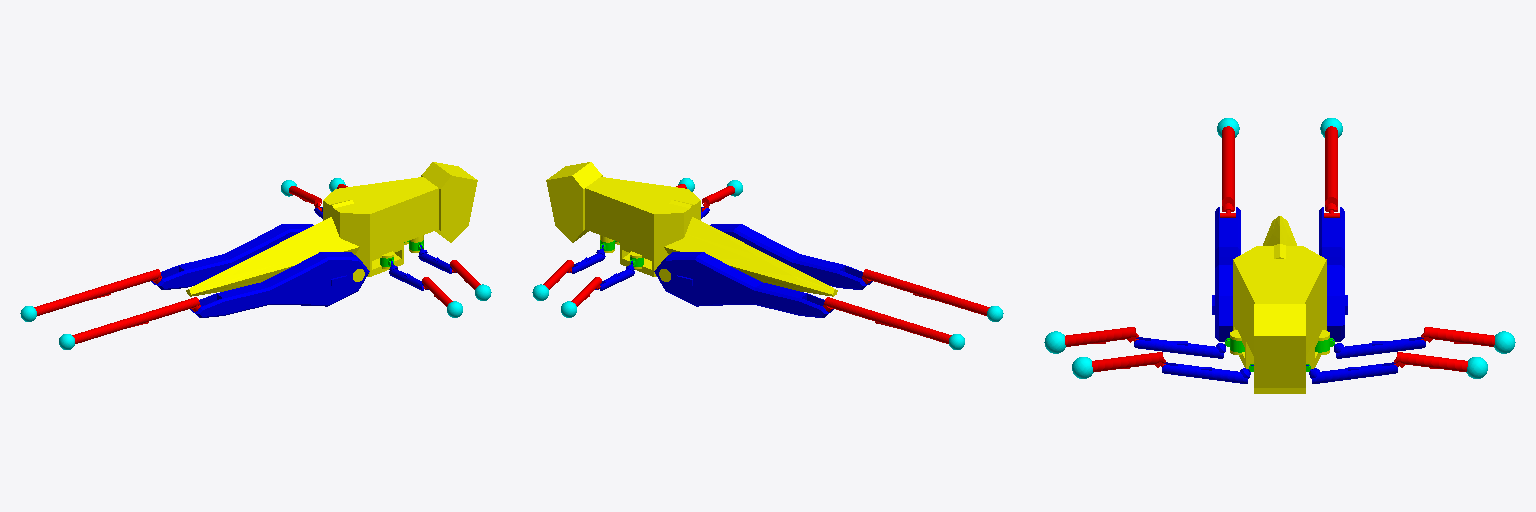
--- Render facts (derived) ---
Views: 3 orthographic renders of the robot side by side, from view 1: azimuth 30°, elevation 25°; view 2: azimuth 150°, elevation 25°; view 3: azimuth 270°, elevation 25°.
Robot: grasshopper_v16 — 23 links, 22 joints (16 revolute, 6 fixed); root link body; default pose: all joints at 0.
Visible links, largest first — view 1: body, rrt, lrt, rrc, lrc; view 2: body, lrt, rrt, lrc, rrc; view 3: body, lrt, rrt, lrc, rrc, lmt, rmt, lft, rft, lmc, rmc, lfc (+1 smaller).
Link boxes in pixels (bbox=[...]): body: bbox=[186, 162, 477, 296]; rrt: bbox=[190, 252, 369, 317]; lrt: bbox=[151, 224, 313, 289]; rrc: bbox=[72, 297, 200, 343]; lrc: bbox=[34, 269, 161, 315]; body: bbox=[546, 162, 837, 296]; lrt: bbox=[654, 252, 833, 317]; rrt: bbox=[710, 224, 872, 289]; lrc: bbox=[823, 297, 951, 343]; rrc: bbox=[862, 269, 989, 315]; body: bbox=[1230, 216, 1329, 393]; lrt: bbox=[1319, 207, 1347, 341]; rrt: bbox=[1212, 207, 1240, 341]; lrc: bbox=[1324, 126, 1339, 217]; rrc: bbox=[1220, 126, 1235, 217]; lmt: bbox=[1333, 337, 1425, 358]; rmt: bbox=[1134, 337, 1226, 358]; lft: bbox=[1306, 362, 1397, 383]; rft: bbox=[1162, 362, 1253, 383]; lmc: bbox=[1421, 327, 1494, 346]; rmc: bbox=[1065, 327, 1138, 346]; lfc: bbox=[1394, 352, 1467, 371].
Bounding box of the posed robot: 0.2065 × 0.1458 × 0.0405 m (x, y, z).
23 mesh visuals loaded from 23 distinct referenced files (23 binary STL).

robot.urdf — grasshopper_v16:
<?xml version="1.0" encoding="utf-8"?>
<!-- This URDF was automatically created by SolidWorks to URDF Exporter! Originally created by Stephen Brawner ([email redacted]) 
     Commit Version: 1.5.1-0-g916b5db  Build Version: 1.5.7152.31018
     For more information, please see http://wiki.ros.org/sw_urdf_exporter -->
<robot
  name="grasshopper_v16">

  <link
    name="body">
    <inertial>
      <origin
        xyz="0.01628 3.7835E-10 0.01505"
        rpy="0 0 0" />
      <mass
        value="0.00568" />
      <inertia
        ixx="5.6329E-07"
        ixy="-7.7524E-14"
        ixz="-5.4963E-07"
        iyy="4.4141E-06"
        iyz="-1.066E-13"
        izz="4.2627E-06" />
    </inertial>
    <visual>
      <origin
        xyz="0 0 0"
        rpy="0 0 0" />
      <geometry>
        <mesh
          filename="package://grasshopper_v16/meshes/body.STL" />
      </geometry>
      <material
        name="yellow">
        <color
          rgba="1 1 0 1" />
      </material>
    </visual>
    <collision>
      <origin
        xyz="0 0 0"
        rpy="0 0 0" />
      <geometry>
        <mesh
          filename="package://grasshopper_v16/meshes/body.STL" />
      </geometry>
    </collision>
  </link>

  <link
    name="lrt">
    <inertial>
      <origin
        xyz="0.026129 8.6736E-18 0.0040288"
        rpy="0 0 0" />
      <mass
        value="0.0010251" />
      <inertia
        ixx="2.7587E-08"
        ixy="-1.0024E-22"
        ixz="6.3727E-10"
        iyy="3.7993E-07"
        iyz="1.8212E-24"
        izz="3.966E-07" />
    </inertial>
    <visual>
      <origin
        xyz="0 0 0"
        rpy="0 0 0" />
      <geometry>
        <mesh
          filename="package://grasshopper_v16/meshes/lrt.STL" />
      </geometry>
      <material
        name="blue">
        <color
          rgba="0 0 1 1" />
      </material>
    </visual>
    <collision>
      <origin
        xyz="0 0 0"
        rpy="0 0 0" />
      <geometry>
        <mesh
          filename="package://grasshopper_v16/meshes/lrt.STL" />
      </geometry>
    </collision>
  </link>

  <joint
    name="lrt"
    type="revolute">
    <origin
      xyz="0.0015 0.012 0.005"
      rpy="1.5708 0 3.1416" />
    <parent
      link="body" />
    <child
      link="lrt" />
    <axis
      xyz="0 0 1" />
    <limit
      lower="0"
      upper="1.5708"
      effort="100000000"
      velocity="100000000" />
    <dynamics
      damping="0.00001" />
  </joint>

  <link
    name="lrc">
    <inertial>
      <origin
        xyz="0.030924 0.0039218 0.0025"
        rpy="0 0 0" />
      <mass
        value="0.00011285" />
      <inertia
        ixx="2.5092E-10"
        ixy="-2.7294E-10"
        ixz="1.736E-14"
        iyy="3.9191E-08"
        iyz="2.1879E-15"
        izz="3.9215E-08" />
    </inertial>
    <visual>
      <origin
        xyz="0 0 0"
        rpy="0 0 0" />
      <geometry>
        <mesh
          filename="package://grasshopper_v16/meshes/lrc.STL" />
      </geometry>
      <material
        name="red">
        <color
          rgba="1 0 0 1" />
      </material>
    </visual>
    <collision>
      <origin
        xyz="0 0 0"
        rpy="0 0 0" />
      <geometry>
        <mesh
          filename="package://grasshopper_v16/meshes/lrc.STL" />
      </geometry>
    </collision>
  </link>

  <joint
    name="lrc"
    type="revolute">
    <origin
      xyz="0.075 0 0.0015"
      rpy="0 0 -0.063261" />
    <parent
      link="lrt" />
    <child
      link="lrc" />
    <axis
      xyz="0 0 1" />
    <limit
      lower="-2.906"
      upper="0"
      effort="100000000"
      velocity="100000000" />
    <dynamics
      damping="0.00001" />
  </joint>

  <link
    name="lrf">
    <inertial>
      <origin
        xyz="-1.7347E-18 -3.4694E-18 -0.00046191"
        rpy="0 0 0" />
      <mass
        value="0.00013943" />
      <inertia
        ixx="6.7329E-10"
        ixy="1.6009E-26"
        ixz="2.0356E-25"
        iyy="6.7329E-10"
        iyz="6.0666E-28"
        izz="8.023E-10" />
    </inertial>
    <visual>
      <origin
        xyz="0 0 0"
        rpy="0 0 0" />
      <geometry>
        <mesh
          filename="package://grasshopper_v16/meshes/lrf.STL" />
      </geometry>
      <material
        name="cyan">
        <color
          rgba="0 1 1 1" />
      </material>
    </visual>
    <collision>
      <origin
        xyz="0 0 0"
        rpy="0 0 0" />
      <geometry>
        <mesh
          filename="package://grasshopper_v16/meshes/lrf.STL" />
      </geometry>
    </collision>
  </link>

  <joint
    name="lrf"
    type="fixed">
    <origin
      xyz="0.063369 0.0040142 0.0025"
      rpy="1.5708 0 -1.5708" />
    <parent
      link="lrc" />
    <child
      link="lrf" />
    <axis
      xyz="0 0 0" />
  </joint>

  <link
    name="lmj">
    <inertial>
      <origin
        xyz="7.7471E-06 3.4694E-18 0.0020001"
        rpy="0 0 0" />
      <mass
        value="1.3465E-05" />
      <inertia
        ixx="5.2603E-11"
        ixy="5.6071E-27"
        ixz="-3.2237E-15"
        iyy="5.5264E-11"
        iyz="1.3527E-28"
        izz="7.2052E-11" />
    </inertial>
    <visual>
      <origin
        xyz="0 0 0"
        rpy="0 0 0" />
      <geometry>
        <mesh
          filename="package://grasshopper_v16/meshes/lmj.STL" />
      </geometry>
      <material
        name="green">
        <color
          rgba="0 1 0 1" />
      </material>
    </visual>
    <collision>
      <origin
        xyz="0 0 0"
        rpy="0 0 0" />
      <geometry>
        <mesh
          filename="package://grasshopper_v16/meshes/lmj.STL" />
      </geometry>
    </collision>
  </link>

  <joint
    name="lmj"
    type="revolute">
    <origin
      xyz="0.0195 0.0125 0.003"
      rpy="0 0 1.5708" />
    <parent
      link="body" />
    <child
      link="lmj" />
    <axis
      xyz="0 0 1" />
    <limit
      lower="-1.3963"
      upper="0.95993"
      effort="10000"
      velocity="10000" />
  </joint>

  <link
    name="lmt">
    <inertial>
      <origin
        xyz="0.012787 -0.0037196 -1.1737E-08"
        rpy="0 0 0" />
      <mass
        value="3.6611E-05" />
      <inertia
        ixx="6.8527E-11"
        ixy="4.4234E-11"
        ixz="-1.9814E-15"
        iyy="2.1403E-09"
        iyz="5.0977E-16"
        izz="2.1458E-09" />
    </inertial>
    <visual>
      <origin
        xyz="0 0 0"
        rpy="0 0 0" />
      <geometry>
        <mesh
          filename="package://grasshopper_v16/meshes/lmt.STL" />
      </geometry>
      <material
        name="blue">
        <color
          rgba="0 0 1 1" />
      </material>
    </visual>
    <collision>
      <origin
        xyz="0 0 0"
        rpy="0 0 0" />
      <geometry>
        <mesh
          filename="package://grasshopper_v16/meshes/lmt.STL" />
      </geometry>
    </collision>
  </link>

  <joint
    name="lmt"
    type="revolute">
    <origin
      xyz="0.0035 0 0.002"
      rpy="1.5708 -0.13685 0" />
    <parent
      link="lmj" />
    <child
      link="lmt" />
    <axis
      xyz="0 0 1" />
    <limit
      lower="0"
      upper="1.5708"
      effort="10000"
      velocity="10000" />
  </joint>

  <link
    name="lmc">
    <inertial>
      <origin
        xyz="0.012337 0.0035222 2.1681E-10"
        rpy="0 0 0" />
      <mass
        value="3.5662E-05" />
      <inertia
        ixx="6.2989E-11"
        ixy="-2.0946E-11"
        ixz="8.088E-17"
        iyy="1.9097E-09"
        iyz="6.3655E-17"
        izz="1.9164E-09" />
    </inertial>
    <visual>
      <origin
        xyz="0 0 0"
        rpy="0 0 0" />
      <geometry>
        <mesh
          filename="package://grasshopper_v16/meshes/lmc.STL" />
      </geometry>
      <material
        name="red">
        <color
          rgba="1 0 0 1" />
      </material>
    </visual>
    <collision>
      <origin
        xyz="0 0 0"
        rpy="0 0 0" />
      <geometry>
        <mesh
          filename="package://grasshopper_v16/meshes/lmc.STL" />
      </geometry>
    </collision>
  </link>

  <joint
    name="lmc"
    type="revolute">
    <origin
      xyz="0.027871 -0.0038382 0"
      rpy="0 0 -0.27932" />
    <parent
      link="lmt" />
    <child
      link="lmc" />
    <axis
      xyz="0 0 1" />
    <limit
      lower="-2.7838"
      upper="0"
      effort="10000"
      velocity="10000" />
  </joint>

  <link
    name="lmf">
    <inertial>
      <origin
        xyz="-3.4694E-18 -1.7347E-18 -0.00036944"
        rpy="0 0 0" />
      <mass
        value="0.00014644" />
      <inertia
        ixx="7.1592E-10"
        ixy="2.5849E-26"
        ixz="9.0473E-26"
        iyy="7.1592E-10"
        iyz="3.8774E-26"
        izz="8.2767E-10" />
    </inertial>
    <visual>
      <origin
        xyz="0 0 0"
        rpy="0 0 0" />
      <geometry>
        <mesh
          filename="package://grasshopper_v16/meshes/lmf.STL" />
      </geometry>
      <material
        name="cyan">
        <color
          rgba="0 1 1 1" />
      </material>
    </visual>
    <collision>
      <origin
        xyz="0 0 0"
        rpy="0 0 0" />
      <geometry>
        <mesh
          filename="package://grasshopper_v16/meshes/lmf.STL" />
      </geometry>
    </collision>
  </link>

  <joint
    name="lmf"
    type="fixed">
    <origin
      xyz="0.024991154273188 0.00358467875173177 0"
      rpy="-1.5707963267949 -0.489454769549356 1.5707963267949" />
    <parent
      link="lmc" />
    <child
      link="lmf" />
    <axis
      xyz="0 0 0" />
  </joint>

  <link
    name="lfj">
    <inertial>
      <origin
        xyz="7.7471E-06 -1.3878E-17 0.0020001"
        rpy="0 0 0" />
      <mass
        value="1.3465E-05" />
      <inertia
        ixx="5.2603E-11"
        ixy="3.9623E-27"
        ixz="-3.2237E-15"
        iyy="5.5264E-11"
        iyz="-7.2343E-27"
        izz="7.2052E-11" />
    </inertial>
    <visual>
      <origin
        xyz="0 0 0"
        rpy="0 0 0" />
      <geometry>
        <mesh
          filename="package://grasshopper_v16/meshes/lfj.STL" />
      </geometry>
      <material
        name="green">
        <color
          rgba="0 1 0 1" />
      </material>
    </visual>
    <collision>
      <origin
        xyz="0 0 0"
        rpy="0 0 0" />
      <geometry>
        <mesh
          filename="package://grasshopper_v16/meshes/lfj.STL" />
      </geometry>
    </collision>
  </link>

  <joint
    name="lfj"
    type="revolute">
    <origin
      xyz="0.038 0.005 0.003"
      rpy="0 0 1.5708" />
    <parent
      link="body" />
    <child
      link="lfj" />
    <axis
      xyz="0 0 1" />
    <limit
      lower="-1.2217"
      upper="0.7854"
      effort="10000"
      velocity="10000" />
  </joint>
  <link
    name="lft">
    <inertial>
      <origin
        xyz="0.012295 -0.0037175 -1.1505E-08"
        rpy="0 0 0" />
      <mass
        value="3.516E-05" />
      <inertia
        ixx="6.6056E-11"
        ixy="4.2264E-11"
        ixz="-1.8246E-15"
        iyy="1.9095E-09"
        iyz="4.7256E-16"
        izz="1.9149E-09" />
    </inertial>
    <visual>
      <origin
        xyz="0 0 0"
        rpy="0 0 0" />
      <geometry>
        <mesh
          filename="package://grasshopper_v16/meshes/lft.STL" />
      </geometry>
      <material
        name="blue">
        <color
          rgba="0 0 1 1" />
      </material>
    </visual>
    <collision>
      <origin
        xyz="0 0 0"
        rpy="0 0 0" />
      <geometry>
        <mesh
          filename="package://grasshopper_v16/meshes/lft.STL" />
      </geometry>
    </collision>
  </link>

  <joint
    name="lft"
    type="revolute">
    <origin
      xyz="0.0035 0 0.002"
      rpy="1.5708 -0.14188 0" />
    <parent
      link="lfj" />
    <child
      link="lft" />
    <axis
      xyz="0 0 1" />
    <limit
      lower="0"
      upper="1.5708"
      effort="10000"
      velocity="10000" />
  </joint>

  <link
    name="lfc">
    <inertial>
      <origin
        xyz="0.012346 0.0035298 9.2442E-11"
        rpy="0 0 0" />
      <mass
        value="3.5516E-05" />
      <inertia
        ixx="6.2427E-11"
        ixy="-2.0323E-11"
        ixz="5.592E-17"
        iyy="1.9089E-09"
        iyz="5.073E-17"
        izz="1.9151E-09" />
    </inertial>
    <visual>
      <origin
        xyz="0 0 0"
        rpy="0 0 0" />
      <geometry>
        <mesh
          filename="package://grasshopper_v16/meshes/lfc.STL" />
      </geometry>
      <material
        name="red">
        <color
          rgba="1 0 0 1" />
      </material>
    </visual>
    <collision>
      <origin
        xyz="0 0 0"
        rpy="0 0 0" />
      <geometry>
        <mesh
          filename="package://grasshopper_v16/meshes/lfc.STL" />
      </geometry>
    </collision>
  </link>

  <joint
    name="lfc"
    type="revolute">
    <origin
      xyz="0.026871 -0.0038382 0"
      rpy="0 0 -0.28434" />
    <parent
      link="lft" />
    <child
      link="lfc" />
    <axis
      xyz="0 0 1" />
    <limit
      lower="-2.7838"
      upper="0"
      effort="10000"
      velocity="10000" />
  </joint>

  <link
    name="lff">
    <inertial>
      <origin
        xyz="6.9389E-18 1.7347E-18 -0.00036944"
        rpy="0 0 0" />
      <mass
        value="0.00014644" />
      <inertia
        ixx="7.1592E-10"
        ixy="0"
        ixz="7.2701E-26"
        iyy="7.1592E-10"
        iyz="6.4623E-27"
        izz="8.2767E-10" />
    </inertial>
    <visual>
      <origin
        xyz="0 0 0"
        rpy="0 0 0" />
      <geometry>
        <mesh
          filename="package://grasshopper_v16/meshes/lff.STL" />
      </geometry>
      <material
        name="cyan">
        <color
          rgba="0 1 1 1" />
      </material>
    </visual>
    <collision>
      <origin
        xyz="0 0 0"
        rpy="0 0 0" />
      <geometry>
        <mesh
          filename="package://grasshopper_v16/meshes/lff.STL" />
      </geometry>
    </collision>
  </link>

  <joint
    name="lff"
    type="fixed">
    <origin
      xyz="0.024991154273188 0.00358467875173176 0"
      rpy="-1.5707963267949 -1.31216908789752 1.5707963267949" />
    <parent
      link="lfc" />
    <child
      link="lff" />
    <axis
      xyz="0.336925099006697 0.628632687727636 -0.700929683762682" />
  </joint>

  <link
    name="rrt">
    <inertial>
      <origin
        xyz="0.026129 2.6021E-18 -0.0040288"
        rpy="0 0 0" />
      <mass
        value="0.0010251" />
      <inertia
        ixx="2.7587E-08"
        ixy="-5.2128E-23"
        ixz="-6.3727E-10"
        iyy="3.7993E-07"
        iyz="2.7401E-25"
        izz="3.966E-07" />
    </inertial>
    <visual>
      <origin
        xyz="0 0 0"
        rpy="0 0 0" />
      <geometry>
        <mesh
          filename="package://grasshopper_v16/meshes/rrt.STL" />
      </geometry>
      <material
        name="blue">
        <color
          rgba="0 0 1 1" />
      </material>
    </visual>
    <collision>
      <origin
        xyz="0 0 0"
        rpy="0 0 0" />
      <geometry>
        <mesh
          filename="package://grasshopper_v16/meshes/rrt.STL" />
      </geometry>
    </collision>
  </link>

  <joint
    name="rrt"
    type="revolute">
    <origin
      xyz="0.0015 -0.012 0.005"
      rpy="1.5708 0 3.1416" />
    <parent
      link="body" />
    <child
      link="rrt" />
    <axis
      xyz="0 0 1" />
    <limit
      lower="0"
      upper="1.5708"
      effort="100000000"
      velocity="100000000" />
    <dynamics
      damping="0.00001" />
  </joint>

  <link
    name="rrc">
    <inertial>
      <origin
        xyz="0.030924 0.0039218 -0.0025"
        rpy="0 0 0" />
      <mass
        value="0.00011285" />
      <inertia
        ixx="2.5092E-10"
        ixy="-2.7294E-10"
        ixz="1.736E-14"
        iyy="3.9191E-08"
        iyz="2.1879E-15"
        izz="3.9215E-08" />
    </inertial>
    <visual>
      <origin
        xyz="0 0 0"
        rpy="0 0 0" />
      <geometry>
        <mesh
          filename="package://grasshopper_v16/meshes/rrc.STL" />
      </geometry>
      <material
        name="red">
        <color
          rgba="1 0 0 1" />
      </material>
    </visual>
    <collision>
      <origin
        xyz="0 0 0"
        rpy="0 0 0" />
      <geometry>
        <mesh
          filename="package://grasshopper_v16/meshes/rrc.STL" />
      </geometry>
    </collision>
  </link>

  <joint
    name="rrc"
    type="revolute">
    <origin
      xyz="0.075 0 -0.0015"
      rpy="0 0 -0.063261" />
    <parent
      link="rrt" />
    <child
      link="rrc" />
    <axis
      xyz="0 0 1" />
    <limit
      lower="-2.906"
      upper="0"
      effort="100000000"
      velocity="100000000" />
    <dynamics
      damping="0.00001" />
  </joint>

  <link
    name="rrf">
    <inertial>
      <origin
        xyz="-1.7347E-18 0 -0.00046191"
        rpy="0 0 0" />
      <mass
        value="0.00013943" />
      <inertia
        ixx="6.7329E-10"
        ixy="-1.9541E-29"
        ixz="1.5833E-25"
        iyy="6.7329E-10"
        iyz="1.2684E-26"
        izz="8.023E-10" />
    </inertial>
    <visual>
      <origin
        xyz="0 0 0"
        rpy="0 0 0" />
      <geometry>
        <mesh
          filename="package://grasshopper_v16/meshes/rrf.STL" />
      </geometry>
      <material
        name="cyan">
        <color
          rgba="0 1 1 1" />
      </material>
    </visual>
    <collision>
      <origin
        xyz="0 0 0"
        rpy="0 0 0" />
      <geometry>
        <mesh
          filename="package://grasshopper_v16/meshes/rrf.STL" />
      </geometry>
    </collision>
  </link>

  <joint
    name="rrf"
    type="fixed">
    <origin
      xyz="0.063369 0.0040142 -0.0025"
      rpy="1.5708 0 -1.5708" />
    <parent
      link="rrc" />
    <child
      link="rrf" />
    <axis
      xyz="0 0 0" />
  </joint>

  <link
    name="rmj">
    <inertial>
      <origin
        xyz="7.7471E-06 -3.4694E-18 0.0020001"
        rpy="0 0 0" />
      <mass
        value="1.3465E-05" />
      <inertia
        ixx="5.2603E-11"
        ixy="1.9568E-27"
        ixz="-3.2237E-15"
        iyy="5.5264E-11"
        iyz="-1.5305E-28"
        izz="7.2052E-11" />
    </inertial>
    <visual>
      <origin
        xyz="0 0 0"
        rpy="0 0 0" />
      <geometry>
        <mesh
          filename="package://grasshopper_v16/meshes/rmj.STL" />
      </geometry>
      <material
        name="green">
        <color
          rgba="0 1 0 1" />
      </material>
    </visual>
    <collision>
      <origin
        xyz="0 0 0"
        rpy="0 0 0" />
      <geometry>
        <mesh
          filename="package://grasshopper_v16/meshes/rmj.STL" />
      </geometry>
    </collision>
  </link>

  <joint
    name="rmj"
    type="revolute">
    <origin
      xyz="0.0195 -0.0125 0.003"
      rpy="0 0 -1.5708" />
    <parent
      link="body" />
    <child
      link="rmj" />
    <axis
      xyz="0 0 1" />
    <limit
      lower="-0.95993"
      upper="1.3963"
      effort="10000"
      velocity="10000" />
  </joint>

  <link
    name="rmt">
    <inertial>
      <origin
        xyz="0.012787 -0.0037196 -1.1737E-08"
        rpy="0 0 0" />
      <mass
        value="3.6611E-05" />
      <inertia
        ixx="6.8527E-11"
        ixy="4.4234E-11"
        ixz="-1.9814E-15"
        iyy="2.1403E-09"
        iyz="5.0977E-16"
        izz="2.1458E-09" />
    </inertial>
    <visual>
      <origin
        xyz="0 0 0"
        rpy="0 0 0" />
      <geometry>
        <mesh
          filename="package://grasshopper_v16/meshes/rmt.STL" />
      </geometry>
      <material
        name="blue">
        <color
          rgba="0 0 1 1" />
      </material>
    </visual>
    <collision>
      <origin
        xyz="0 0 0"
        rpy="0 0 0" />
      <geometry>
        <mesh
          filename="package://grasshopper_v16/meshes/rmt.STL" />
      </geometry>
    </collision>
  </link>

  <joint
    name="rmt"
    type="revolute">
    <origin
      xyz="0.0035 0 0.002"
      rpy="1.5708 -0.13685 0" />
    <parent
      link="rmj" />
    <child
      link="rmt" />
    <axis
      xyz="0 0 1" />
    <limit
      lower="0"
      upper="1.5708"
      effort="10000"
      velocity="10000" />
  </joint>

  <link
    name="rmc">
    <inertial>
      <origin
        xyz="0.012337 0.0035222 2.1681E-10"
        rpy="0 0 0" />
      <mass
        value="3.5662E-05" />
      <inertia
        ixx="6.2989E-11"
        ixy="-2.0946E-11"
        ixz="8.088E-17"
        iyy="1.9097E-09"
        iyz="6.3655E-17"
        izz="1.9164E-09" />
    </inertial>
    <visual>
      <origin
        xyz="0 0 0"
        rpy="0 0 0" />
      <geometry>
        <mesh
          filename="package://grasshopper_v16/meshes/rmc.STL" />
      </geometry>
      <material
        name="red">
        <color
          rgba="1 0 0 1" />
      </material>
    </visual>
    <collision>
      <origin
        xyz="0 0 0"
        rpy="0 0 0" />
      <geometry>
        <mesh
          filename="package://grasshopper_v16/meshes/rmc.STL" />
      </geometry>
    </collision>
  </link>

  <joint
    name="rmc"
    type="revolute">
    <origin
      xyz="0.027871 -0.0038382 0"
      rpy="0 0 -0.27932" />
    <parent
      link="rmt" />
    <child
      link="rmc" />
    <axis
      xyz="0 0 1" />
    <limit
      lower="-2.7838"
      upper="0"
      effort="10000"
      velocity="10000" />
  </joint>

  <link
    name="rmf">
    <inertial>
      <origin
        xyz="-3.4694E-18 8.6736E-19 -0.00036944"
        rpy="0 0 0" />
      <mass
        value="0.00014644" />
      <inertia
        ixx="7.1592E-10"
        ixy="0"
        ixz="-9.0473E-26"
        iyy="7.1592E-10"
        iyz="1.0986E-25"
        izz="8.2767E-10" />
    </inertial>
    <visual>
      <origin
        xyz="0 0 0"
        rpy="0 0 0" />
      <geometry>
        <mesh
          filename="package://grasshopper_v16/meshes/rmf.STL" />
      </geometry>
      <material
        name="cyan">
        <color
          rgba="0 1 1 1" />
      </material>
    </visual>
    <collision>
      <origin
        xyz="0 0 0"
        rpy="0 0 0" />
      <geometry>
        <mesh
          filename="package://grasshopper_v16/meshes/rmf.STL" />
      </geometry>
    </collision>
  </link>

  <joint
    name="rmf"
    type="fixed">
    <origin
      xyz="0.024991154273188 0.00358467875173177 0"
      rpy="-1.5707963267949 1.06968702280819 1.5707963267949" />
    <parent
      link="rmc" />
    <child
      link="rmf" />
    <axis
      xyz="0.588477199867477 -0.264058718143646 -0.764177714022378" />
  </joint>

  <link
    name="rfj">
    <inertial>
      <origin
        xyz="7.7471E-06 -3.4694E-17 0.0020001"
        rpy="0 0 0" />
      <mass
        value="1.3465E-05" />
      <inertia
        ixx="5.2603E-11"
        ixy="1.4871E-26"
        ixz="-3.2237E-15"
        iyy="5.5264E-11"
        iyz="-1.3331E-28"
        izz="7.2052E-11" />
    </inertial>
    <visual>
      <origin
        xyz="0 0 0"
        rpy="0 0 0" />
      <geometry>
        <mesh
          filename="package://grasshopper_v16/meshes/rfj.STL" />
      </geometry>
      <material
        name="green">
        <color
          rgba="0 1 0 1" />
      </material>
    </visual>
    <collision>
      <origin
        xyz="0 0 0"
        rpy="0 0 0" />
      <geometry>
        <mesh
          filename="package://grasshopper_v16/meshes/rfj.STL" />
      </geometry>
    </collision>
  </link>

  <joint
    name="rfj"
    type="revolute">
    <origin
      xyz="0.038 -0.005 0.003"
      rpy="0 0 -1.5708" />
    <parent
      link="body" />
    <child
      link="rfj" />
    <axis
      xyz="0 0 1" />
    <limit
      lower="-0.7854"
      upper="1.2217"
      effort="10000"
      velocity="10000" />
  </joint>

  <link
    name="rft">
    <inertial>
      <origin
        xyz="0.012295 -0.0037175 -1.1505E-08"
        rpy="0 0 0" />
      <mass
        value="3.516E-05" />
      <inertia
        ixx="6.6056E-11"
        ixy="4.2264E-11"
        ixz="-1.8246E-15"
        iyy="1.9095E-09"
        iyz="4.7256E-16"
        izz="1.9149E-09" />
    </inertial>
    <visual>
      <origin
        xyz="0 0 0"
        rpy="0 0 0" />
      <geometry>
        <mesh
          filename="package://grasshopper_v16/meshes/rft.STL" />
      </geometry>
      <material
        name="blue">
        <color
          rgba="0 0 1 1" />
      </material>
    </visual>
    <collision>
      <origin
        xyz="0 0 0"
        rpy="0 0 0" />
      <geometry>
        <mesh
          filename="package://grasshopper_v16/meshes/rft.STL" />
      </geometry>
    </collision>
  </link>

  <joint
    name="rft"
    type="revolute">
    <origin
      xyz="0.0035 0 0.002"
      rpy="1.5708 -0.14188 0" />
    <parent
      link="rfj" />
    <child
      link="rft" />
    <axis
      xyz="0 0 1" />
    <limit
      lower="0"
      upper="1.5708"
      effort="10000"
      velocity="10000" />
  </joint>

  <link
    name="rfc">
    <inertial>
      <origin
        xyz="0.012346 0.0035298 9.2442E-11"
        rpy="0 0 0" />
      <mass
        value="3.5516E-05" />
      <inertia
        ixx="6.2427E-11"
        ixy="-2.0323E-11"
        ixz="5.592E-17"
        iyy="1.9089E-09"
        iyz="5.073E-17"
        izz="1.9151E-09" />
    </inertial>
    <visual>
      <origin
        xyz="0 0 0"
        rpy="0 0 0" />
      <geometry>
        <mesh
          filename="package://grasshopper_v16/meshes/rfc.STL" />
      </geometry>
      <material
        name="red">
        <color
          rgba="1 0 0 1" />
      </material>
    </visual>
    <collision>
      <origin
        xyz="0 0 0"
        rpy="0 0 0" />
      <geometry>
        <mesh
          filename="package://grasshopper_v16/meshes/rfc.STL" />
      </geometry>
    </collision>
  </link>

  <joint
    name="rfc"
    type="revolute">
    <origin
      xyz="0.026871 -0.0038382 0"
      rpy="0 0 -0.28434" />
    <parent
      link="rft" />
    <child
      link="rfc" />
    <axis
      xyz="0 0 1" />
    <limit
      lower="-2.7838"
      upper="0"
      effort="10000"
      velocity="10000" />
  </joint>

  <link
    name="rff">
    <inertial>
      <origin
        xyz="0 0 -0.00036944"
        rpy="0 0 0" />
      <mass
        value="0.00014644" />
      <inertia
        ixx="7.1592E-10"
        ixy="2.5849E-26"
        ixz="-1.1632E-25"
        iyy="7.1592E-10"
        iyz="-6.7855E-26"
        izz="8.2767E-10" />
    </inertial>
    <visual>
      <origin
        xyz="0 0 0"
        rpy="0 0 0" />
      <geometry>
        <mesh
          filename="package://grasshopper_v16/meshes/rff.STL" />
      </geometry>
      <material
        name="cyan">
        <color
          rgba="0 1 1 1" />
      </material>
    </visual>
    <collision>
      <origin
        xyz="0 0 0"
        rpy="0 0 0" />
      <geometry>
        <mesh
          filename="package://grasshopper_v16/meshes/rff.STL" />
      </geometry>
    </collision>
  </link>

  <joint
    name="rff"
    type="fixed">
    <origin
      xyz="0.024991154273188 0.00358467875173169 0"
      rpy="-1.5707963267949 0.499594953248322 1.5707963267949" />
    <parent
      link="rfc" />
    <child
      link="rff" />
    <axis
      xyz="0.244519200301658 0.952298530924757 -0.18258660597751" />
  </joint>
</robot>
